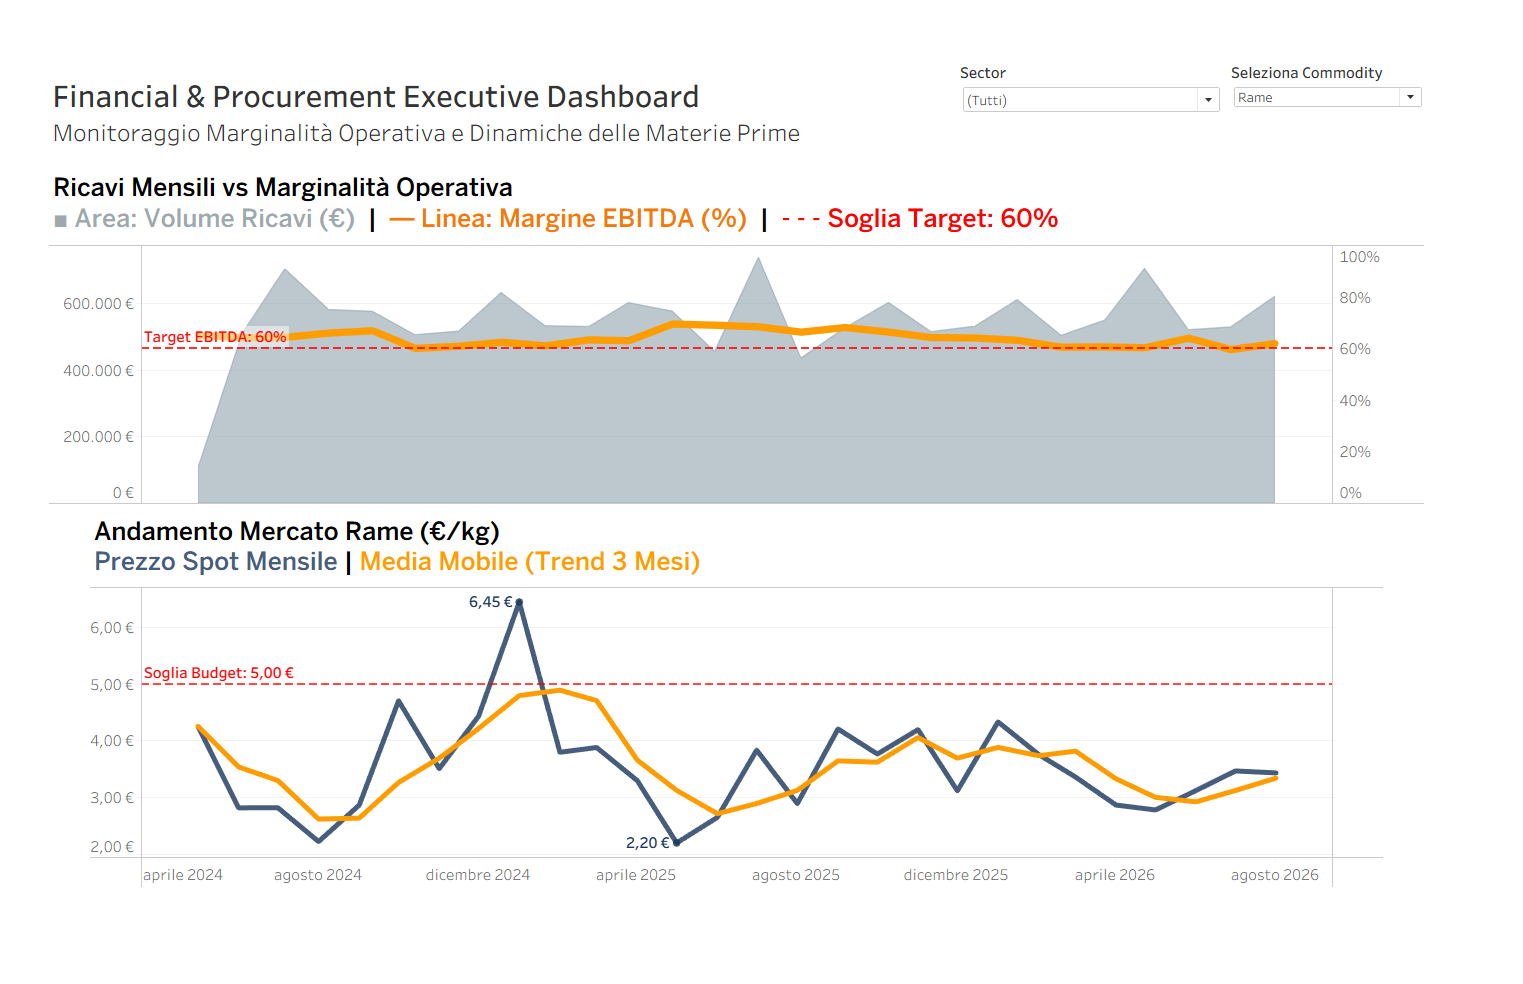

Layout of this report page (visuals, bound fields, positions):
{"tool":"tableau","page":{"name":"Dashboard 1","canvas":[1400,850],"ordinal":0},"visuals":[{"type":"title","box":[8,8,911,106]},{"type":"filter","title":"Executive Overview","param":"[federated.00q418518tdv0j1d6234510md510].[none:Sector:nk]","box":[919,8,271,106]},{"type":"parameter","param":"[Parameters].[Parametro 0377718480433154]","box":[1190,8,202,106]},{"type":"worksheet","title":"Executive Overview","mark":"Line","rows":["Gross_Revenue_EUR","Calculation_1196854329765892"],"cols":["Date"],"box":[8,114,1384,344]},{"type":"worksheet","title":"Commodity Trends","mark":"Automatic","rows":["Calculation_0377718481186819","Calculation_0377718481186819"],"cols":["Date"],"box":[8,458,1384,384]}]}

Visuals, with their boxes on the page's 1400x850 design canvas (x1, y1, x2, y2). These are canvas units, not pixel positions in the 1523x984 screenshot, which may show the page scaled, cropped or inside an application window:
title: box=[8, 8, 919, 114]
"Executive Overview" filter: box=[919, 8, 1190, 114]
parameter: box=[1190, 8, 1392, 114]
"Executive Overview" worksheet (Line marks): box=[8, 114, 1392, 458]
"Commodity Trends" worksheet: box=[8, 458, 1392, 842]
